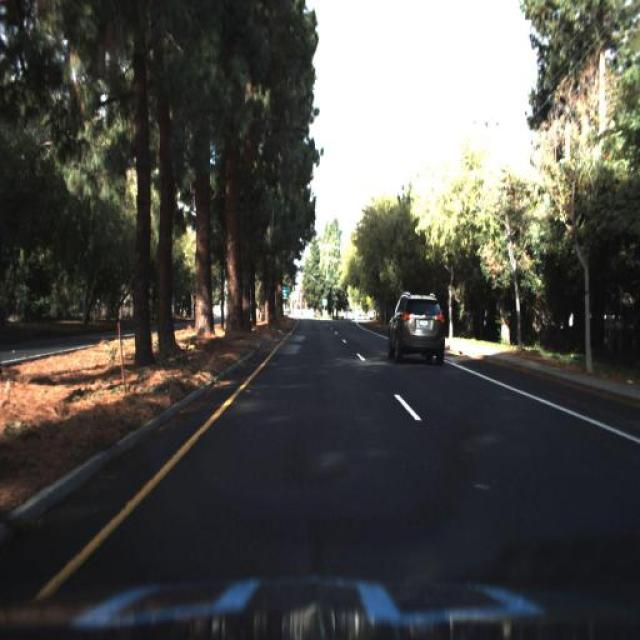car: (382, 292, 446, 369)
